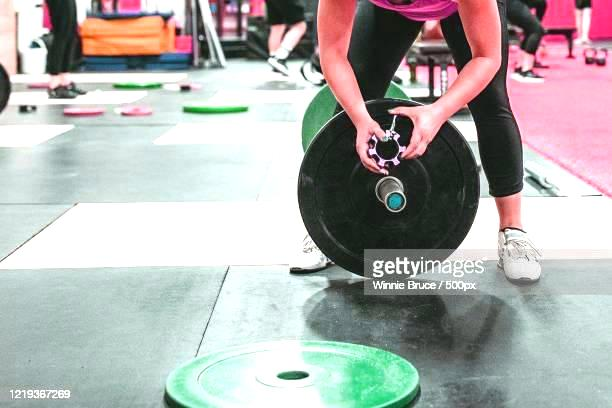Barbell: (377, 188, 412, 216)
